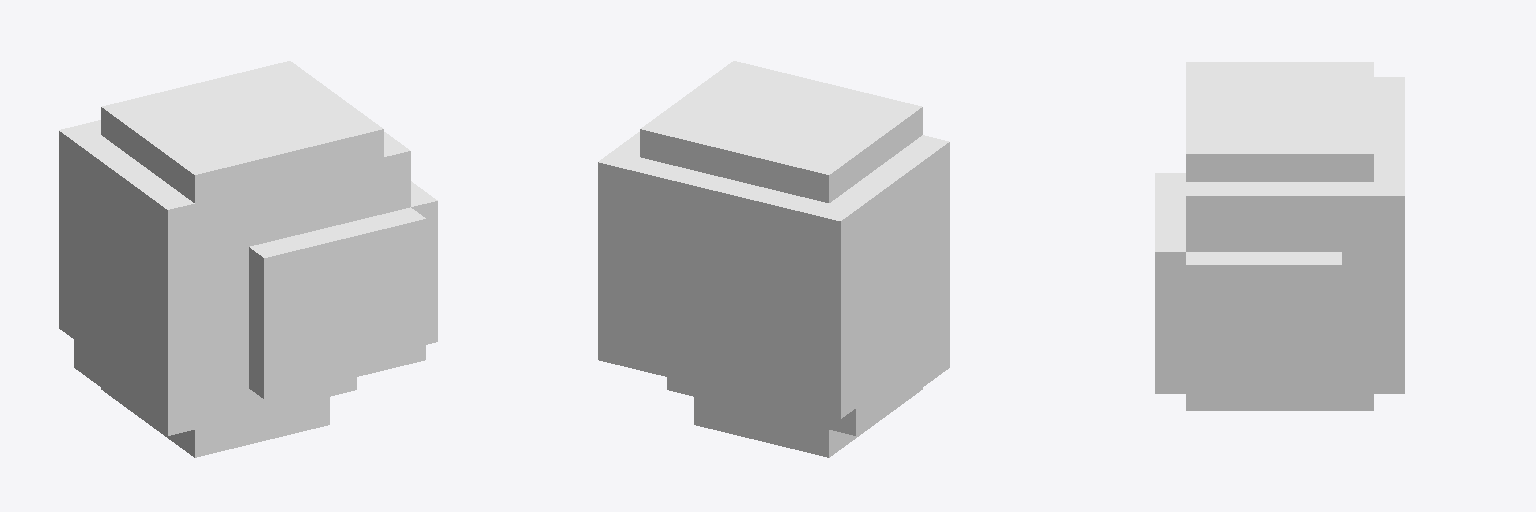
Rendered from hands-1-HandR.obj.
The picture shows the model from 3 angles: view 1: azimuth 30°, elevation 25°; view 2: azimuth 150°, elevation 25°; view 3: azimuth 270°, elevation 25°; orthographic projection.
Visible parts, largest first — view 1: HandR; view 2: HandR; view 3: HandR.
Part boxes in pixels (x1,y1,x2,y2): HandR: (59, 61, 437, 457); HandR: (598, 61, 949, 457); HandR: (1155, 62, 1404, 410).
Size of the model in its own units: 1 by 1 by 0.8.